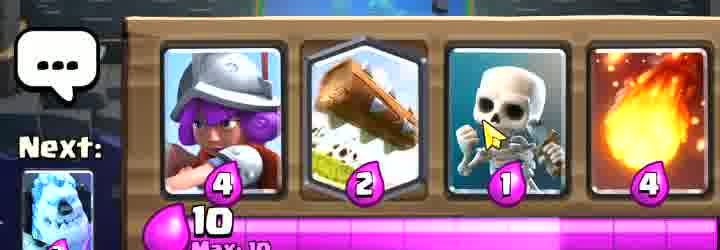fireball: (595, 46, 710, 195)
ice-golem: (25, 172, 92, 249)
log: (310, 43, 422, 192)
musketeer: (165, 49, 283, 204)
